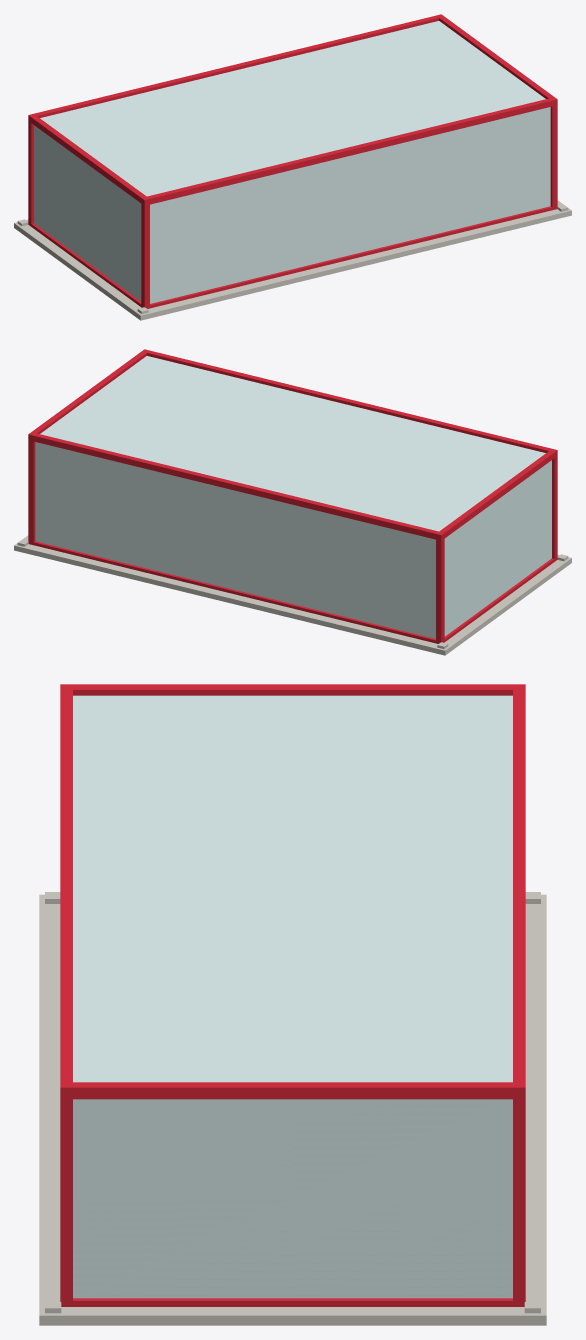
The model's file is mclaren-senna-gt.glb.
3 renders of one model, top to bottom at view 1: azimuth 30°, elevation 25°; view 2: azimuth 150°, elevation 25°; view 3: azimuth 270°, elevation 25°, orthographic. The views are drawn at different scales.
Size of the model in its own units: 0.55 by 0.1395 by 0.28.
